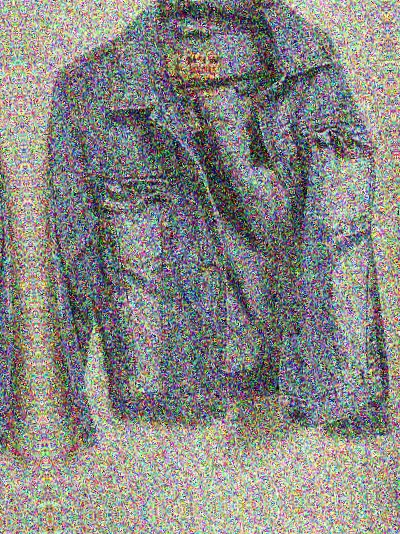Blazer: (19, 0, 392, 470), (0, 4, 40, 494)
